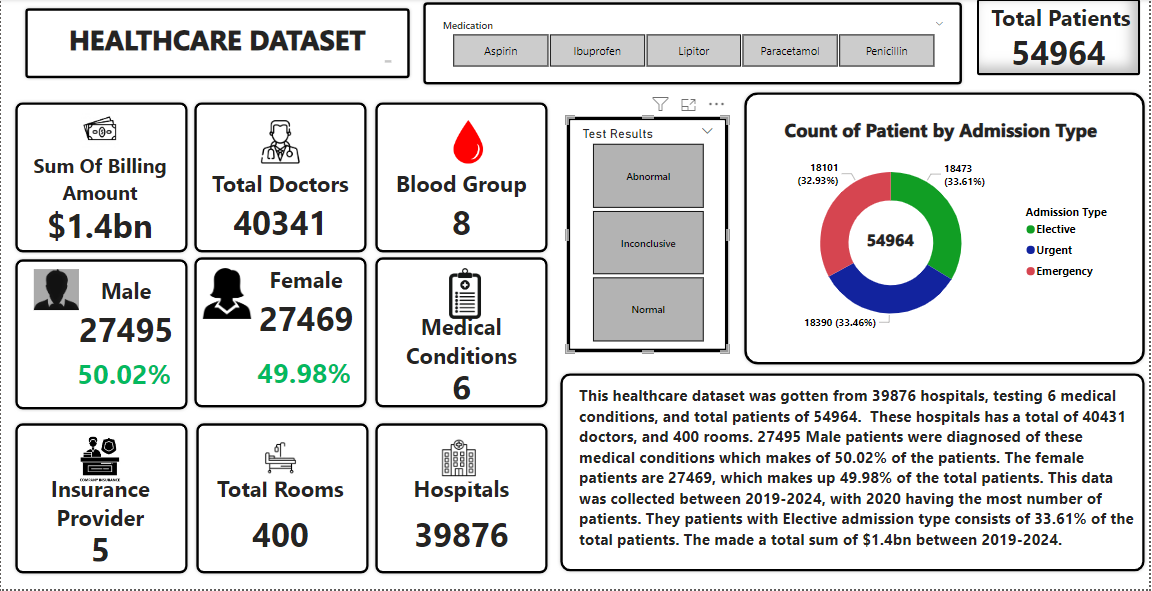

The page's visual inventory and layout, read from the dashboard file:
{"tool":"powerbi","page":{"name":"Page 1","canvas":[1400,720],"ordinal":0},"visuals":[{"type":"shape","box":[903.2,109.9,496.8,340.2],"z":0,"group":"g1"},{"type":"shape","box":[13.5,121.9,218.3,191.2],"z":0},{"type":"donutChart","title":"Count of Patient by Admission Type","fields":{"Category":["healthcare_dataset.Admission Type"],"Y":["healthcare_dataset.TP"]},"box":[917.2,143.7,460.8,277],"z":1000,"group":"g1"},{"type":"shape","box":[453.1,311.6,218.3,191.2],"z":1000},{"type":"card","title":"Total Patients","fields":{"Values":["healthcare_dataset.Full Name"]},"box":[1190.8,0,198.7,93.3],"z":2000},{"type":"card","fields":{"Values":["healthcare_dataset.TP"]},"box":[1038.3,268.1,93.3,54.2],"z":2000,"group":"g1"},{"type":"card","title":"Medical Conditions","fields":{"Values":["healthcare_dataset.Medical Condition"]},"box":[466.7,380.9,191.2,112.9],"z":3000},{"type":"shape","box":[231.8,121.9,218.3,191.2],"z":4000},{"type":"card","title":"Total Doctors","fields":{"Values":["healthcare_dataset.Doctor"]},"box":[245.4,206.2,191.2,94.8],"z":5000},{"type":"shape","box":[453.1,121.9,218.3,191.2],"z":6000},{"type":"card","title":"Blood Group","fields":{"Values":["healthcare_dataset.Blood Type"]},"box":[466.7,206.2,191.2,94.8],"z":7000},{"type":"shape","box":[13.5,313.1,218.3,191.2],"z":8000},{"type":"card","title":"Male","fields":{"Values":["healthcare_dataset.Measure"]},"box":[87.3,337.2,129.5,94.8],"z":9000},{"type":"shape","box":[231.8,311.6,218.3,191.2],"z":10000},{"type":"card","title":"Total Doctors","fields":{"Values":["healthcare_dataset.% Male"]},"box":[84.3,420,132.5,75.3],"z":11000},{"type":"card","title":"Female","fields":{"Values":["healthcare_dataset.Female"]},"box":[307.1,323.7,129.5,94.8],"z":12000},{"type":"card","title":"Total Doctors","fields":{"Values":["healthcare_dataset.% Female"]},"box":[304.1,418.5,132.5,75.3],"z":13000},{"type":"image","box":[28.6,325.2,78.3,60.2],"z":14000},{"type":"image","box":[234.8,323.7,82.8,72.3],"z":15000},{"type":"shape","box":[453.1,513.3,218.3,191.2],"z":16000},{"type":"shape","box":[13.5,513.3,218.3,191.2],"z":17000},{"type":"card","title":"Insurance Provider","fields":{"Values":["healthcare_dataset.Insurance Provider"]},"box":[25.6,578.1,191.2,112.9],"z":18000},{"type":"shape","box":[234.8,513.3,218.3,191.2],"z":19000},{"type":"card","title":"Total Rooms","fields":{"Values":["healthcare_dataset.Room Number"]},"box":[245.4,578.1,191.2,112.9],"z":20000},{"type":"shape","box":[678.9,453.1,721.1,249.9],"z":21000},{"type":"card","title":"Hospitals","fields":{"Values":["healthcare_dataset.Hospital"]},"box":[466.7,578.1,191.2,112.9],"z":22000},{"type":"card","title":"Sum Of Billing Amount","fields":{"Values":["healthcare_dataset.Billing Amount"]},"box":[28.6,186.7,185.2,114.4],"z":23000},{"type":"image","box":[72.3,129.5,97.8,57.2],"z":24000},{"type":"shape","box":[511.8,0,665.4,108.4],"z":25000},{"type":"shape","box":[25.6,7.5,477.2,93.3],"z":26000},{"type":"textbox","title":"HEALTHCARE DATASET","box":[46.7,25.6,435.1,57.2],"z":27000},{"type":"slicer","fields":{"Values":["healthcare_dataset.Medication"]},"box":[525.4,18.1,636.8,70.8],"z":28000},{"type":"image","box":[483.2,143,174.6,63.2],"z":29000},{"type":"image","box":[245.4,143,191.2,63.2],"z":30000},{"type":"image","box":[502.8,323.7,126.5,72.3],"z":31000},{"type":"image","box":[245.4,525.4,191.2,67.7],"z":32000},{"type":"image","box":[28.6,525.4,185.2,67.7],"z":33000},{"type":"image","box":[502.8,525.4,112.9,67.7],"z":34000},{"type":"group","id":"g1","title":"Group 1","box":[903.2,109.9,496.8,340.2],"z":35000},{"type":"textbox","box":[700,471.2,689.5,219.8],"z":36000},{"type":"slicer","fields":{"Values":["healthcare_dataset.Test Results"]},"box":[689.5,143,198.7,289],"z":37000}]}

Visuals, with their boxes in screenshot pixels (x1, y1, x2, y2), scaled from the page's 1400x720 canvas onto the 1152x591 screenshot:
shape: [743, 90, 1151, 369]
shape: [11, 100, 191, 257]
"Count of Patient by Admission Type" donutChart: [755, 118, 1134, 345]
shape: [373, 256, 552, 413]
"Total Patients" card: [980, 0, 1143, 77]
card - healthcare_dataset.TP: [854, 220, 931, 265]
"Medical Conditions" card: [384, 313, 541, 405]
shape: [191, 100, 370, 257]
"Total Doctors" card: [202, 169, 359, 247]
shape: [373, 100, 552, 257]
"Blood Group" card: [384, 169, 541, 247]
shape: [11, 257, 191, 414]
"Male" card: [72, 277, 178, 355]
shape: [191, 256, 370, 413]
"Total Doctors" card: [69, 345, 178, 407]
"Female" card: [253, 266, 359, 344]
"Total Doctors" card: [250, 344, 359, 405]
image: [24, 267, 88, 316]
image: [193, 266, 261, 325]
shape: [373, 421, 552, 578]
shape: [11, 421, 191, 578]
"Insurance Provider" card: [21, 475, 178, 567]
shape: [193, 421, 373, 578]
"Total Rooms" card: [202, 475, 359, 567]
shape: [559, 372, 1151, 577]
"Hospitals" card: [384, 475, 541, 567]
"Sum Of Billing Amount" card: [24, 153, 176, 247]
image: [59, 106, 140, 153]
shape: [421, 0, 969, 89]
shape: [21, 6, 414, 83]
"HEALTHCARE DATASET" textbox: [38, 21, 396, 68]
slicer - healthcare_dataset.Medication: [432, 15, 956, 73]
image: [398, 117, 541, 169]
image: [202, 117, 359, 169]
image: [414, 266, 518, 325]
image: [202, 431, 359, 487]
image: [24, 431, 176, 487]
image: [414, 431, 507, 487]
"Group 1" group: [743, 90, 1151, 369]
textbox: [576, 387, 1143, 567]
slicer - healthcare_dataset.Test Results: [567, 117, 731, 355]
